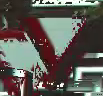Give way: (4, 10, 93, 94)
